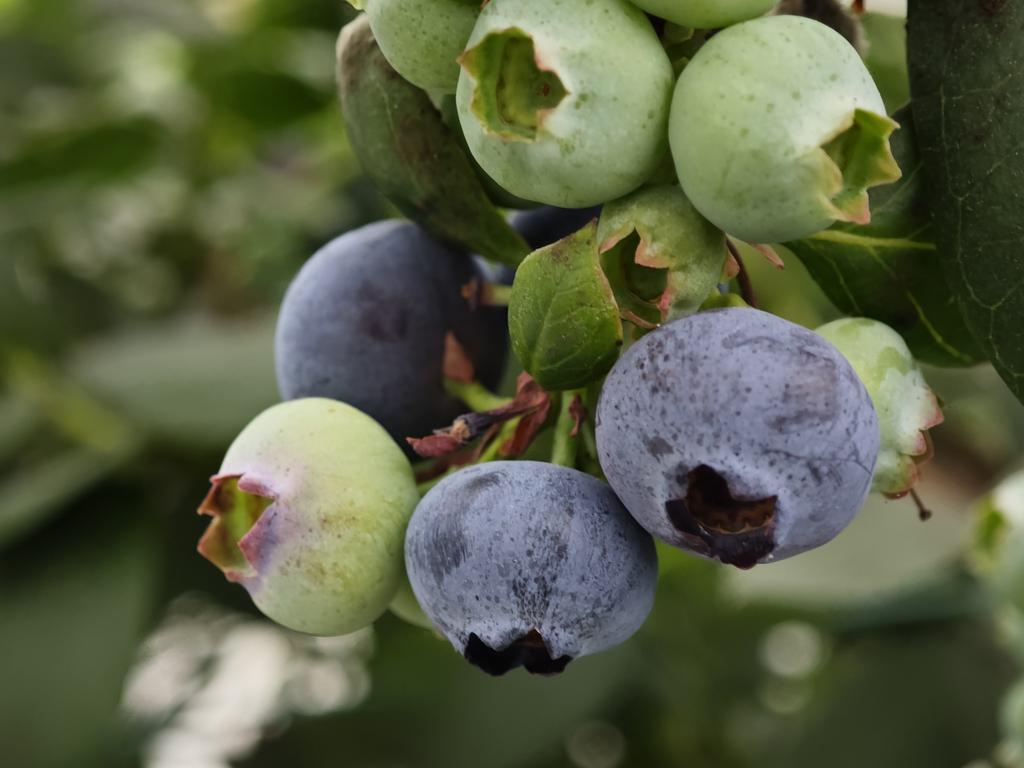RipeBlueBerry: (595, 307, 882, 569), (402, 457, 662, 677)
UnripeBlueBerry: (669, 13, 901, 248), (195, 394, 413, 639)
